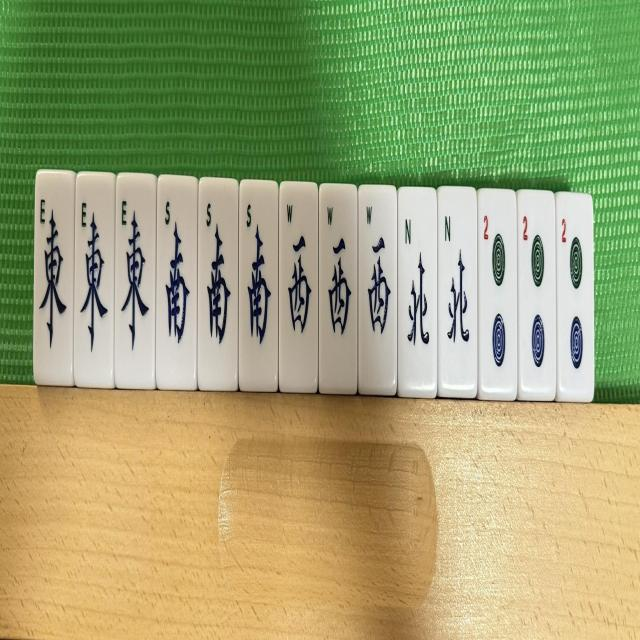hwe: (36, 180, 72, 374), (120, 184, 152, 380), (78, 184, 110, 372)
hwn: (399, 190, 435, 386), (440, 195, 474, 386)
hws: (200, 190, 236, 380), (160, 190, 193, 382), (242, 194, 273, 384)
hww: (360, 188, 396, 390), (321, 192, 356, 382), (282, 195, 316, 382)
sd2: (480, 199, 514, 386), (558, 201, 590, 396), (520, 201, 552, 390)
